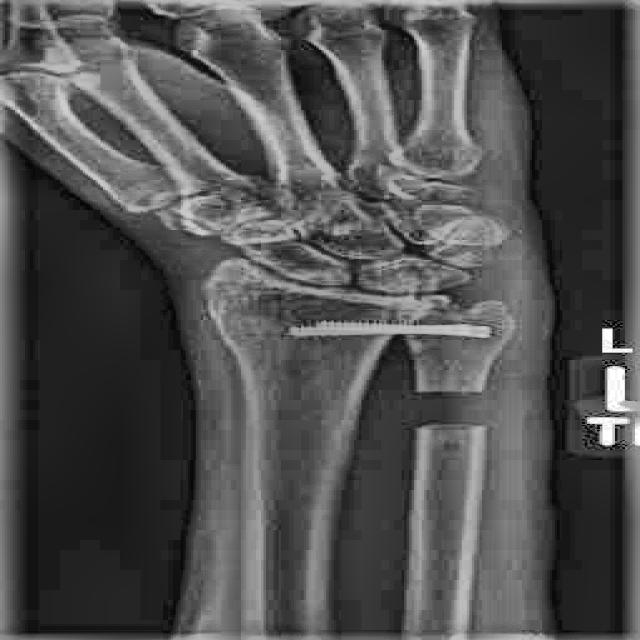wrist positive: (354, 299, 537, 329)
